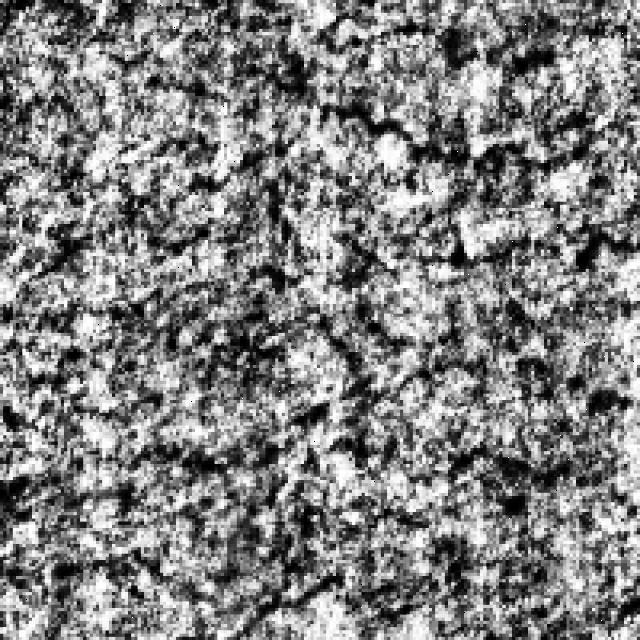Pitted_Surface: (0, 256, 371, 464), (263, 16, 566, 179), (288, 348, 634, 484), (336, 215, 637, 342)
